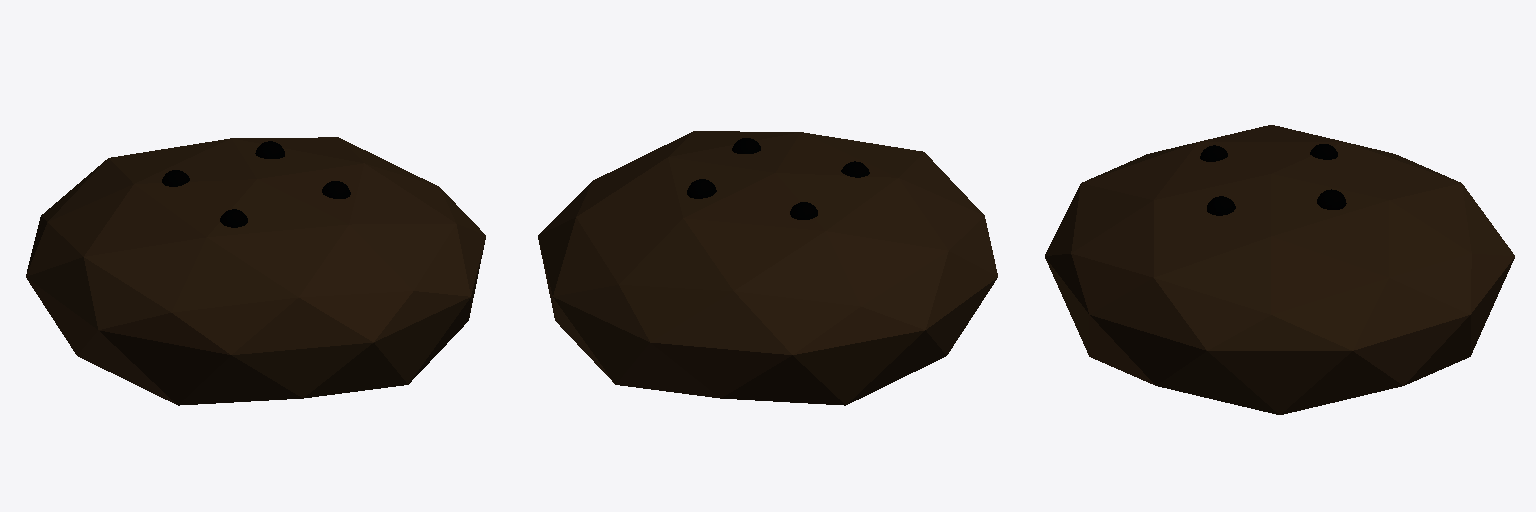
The model's file is player_stone.obj.
3 renders of one model, left to right at view 1: azimuth 30°, elevation 25°; view 2: azimuth 150°, elevation 25°; view 3: azimuth 270°, elevation 25°, orthographic.
Visible parts, largest first — view 1: Icosphere; view 2: Icosphere; view 3: Icosphere.
Part boxes in pixels (x1,y1,x2,y2): Icosphere: (26, 137, 485, 405); Icosphere: (538, 131, 997, 405); Icosphere: (1045, 125, 1514, 414).
Bounding box in the file's own units: 1.43 × 0.5979 × 1.51.